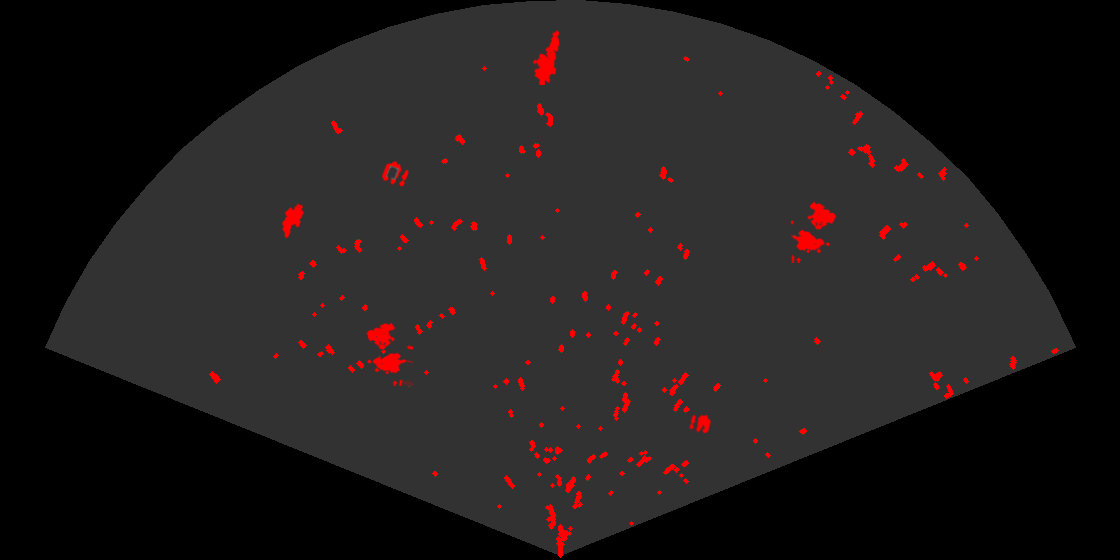AUV: (280, 202, 306, 240)
ball: (380, 160, 410, 188), (688, 413, 713, 435)
cage: (365, 321, 413, 386), (791, 200, 838, 263)
frogman: (531, 28, 561, 85)
